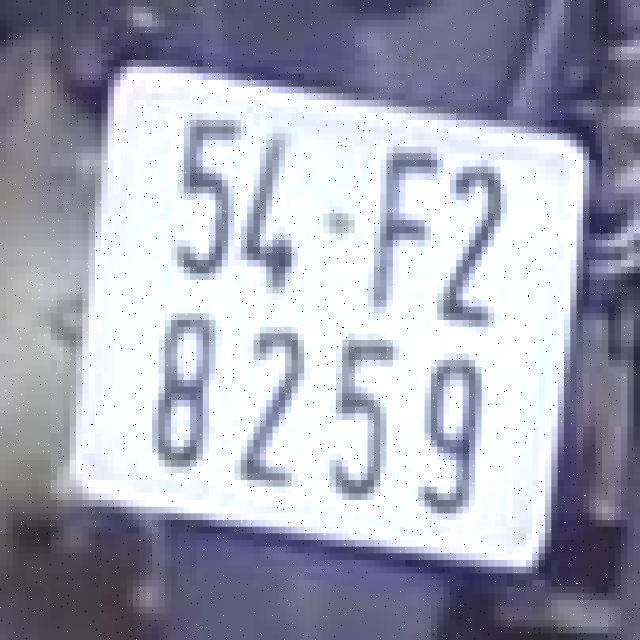2: (434, 147, 516, 340), (228, 313, 311, 487)
4: (234, 100, 310, 307)
5: (320, 320, 402, 520), (152, 100, 235, 287)
8: (146, 303, 222, 477)
9: (415, 343, 485, 537)
F: (355, 137, 443, 323)
